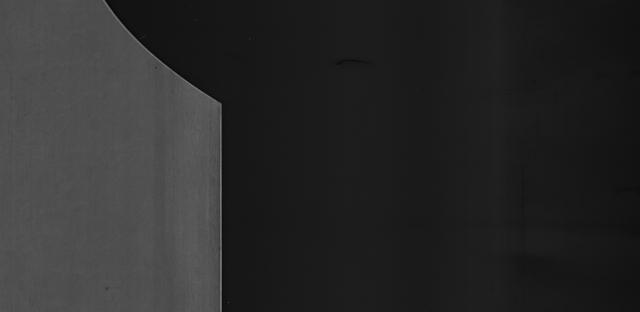crescent_gap: (91, 0, 231, 115)
